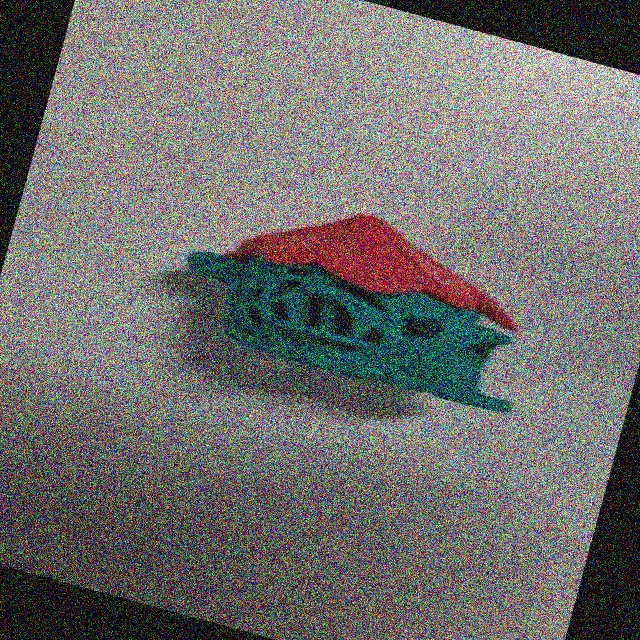House: (103, 143, 587, 469)
